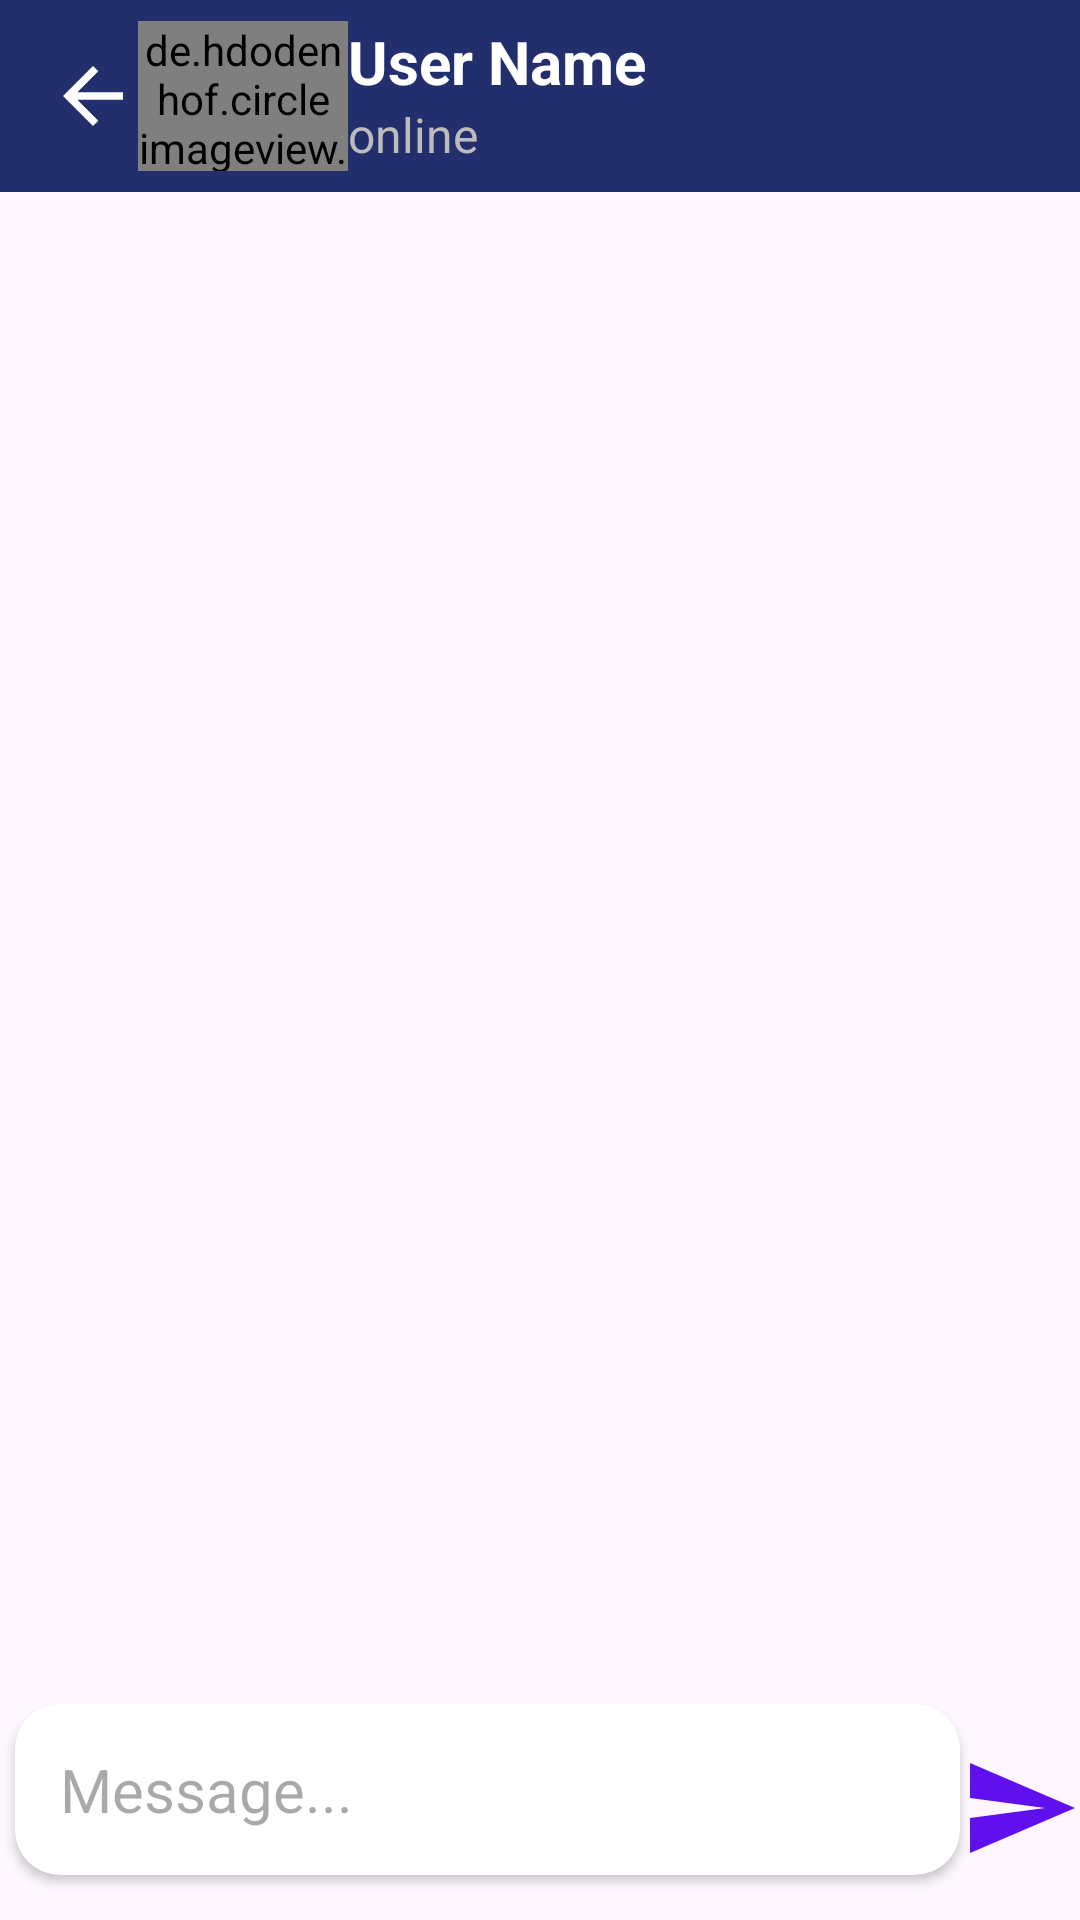

Screen size 1080x1920. Icon name, then its box in pixels as box=[x1, y1, x2, y2]:
back: box=[63, 66, 123, 126]
send: box=[970, 1763, 1075, 1853]
